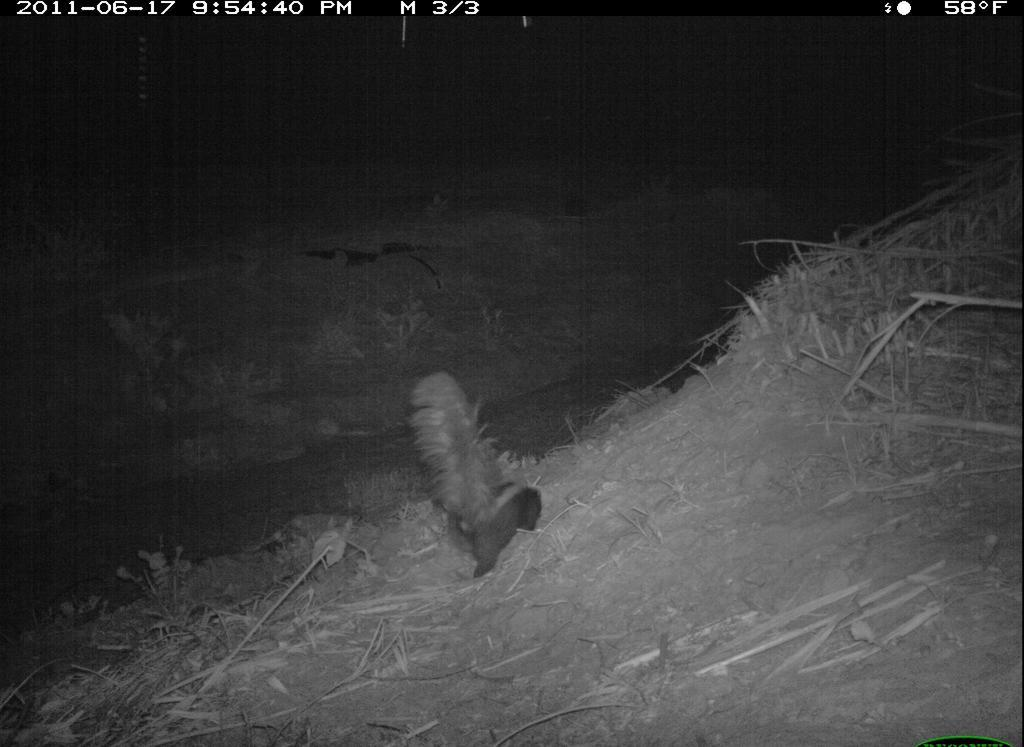skunk: (401, 369, 548, 596)
